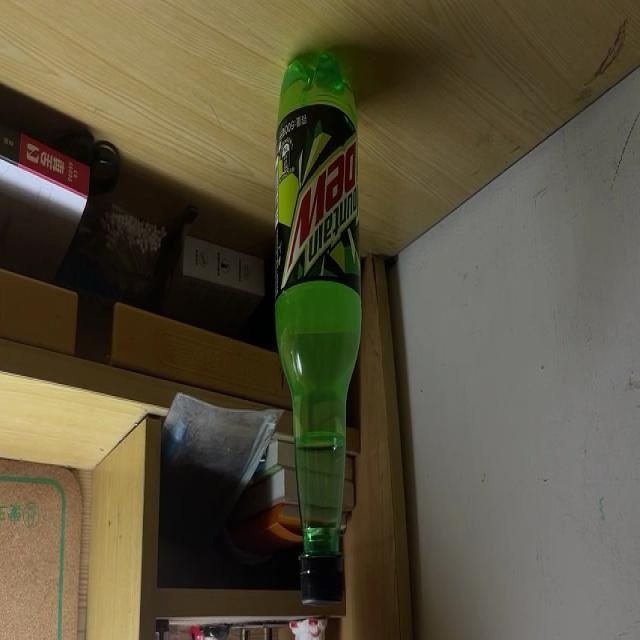Mountain-Dew: (276, 53, 362, 612)
